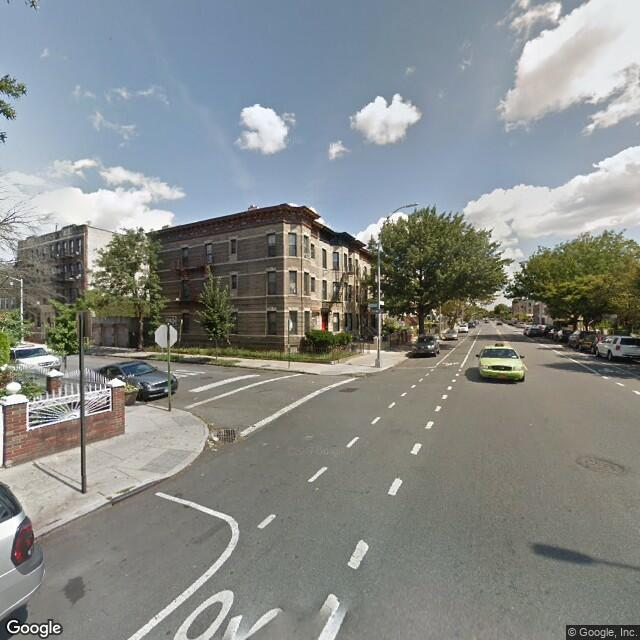litter: (204, 428, 224, 455), (528, 421, 540, 431), (259, 440, 270, 448), (310, 379, 316, 383)
